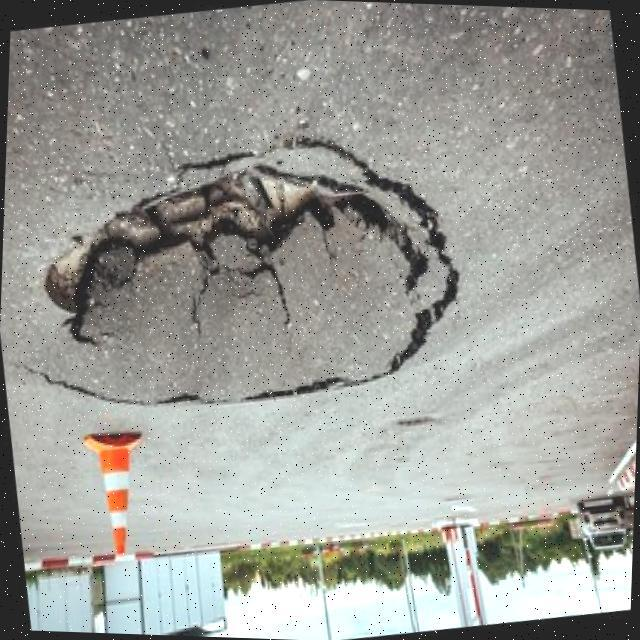Pothole: (39, 134, 461, 403)
